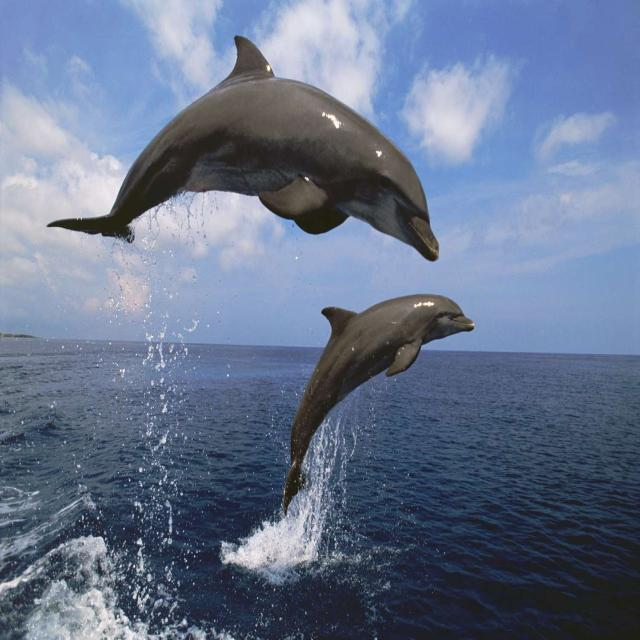dolphin: (49, 36, 439, 260)
